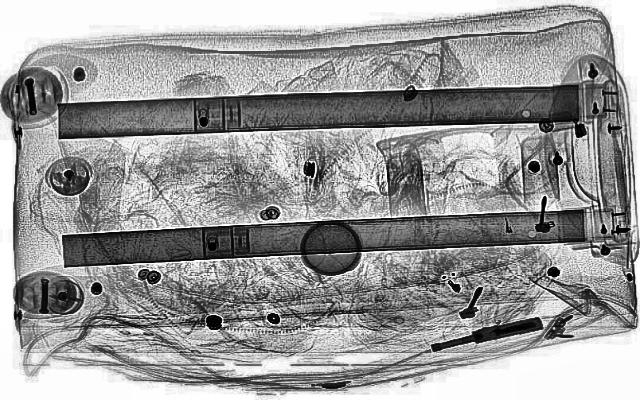Gun: (406, 315, 556, 355)
